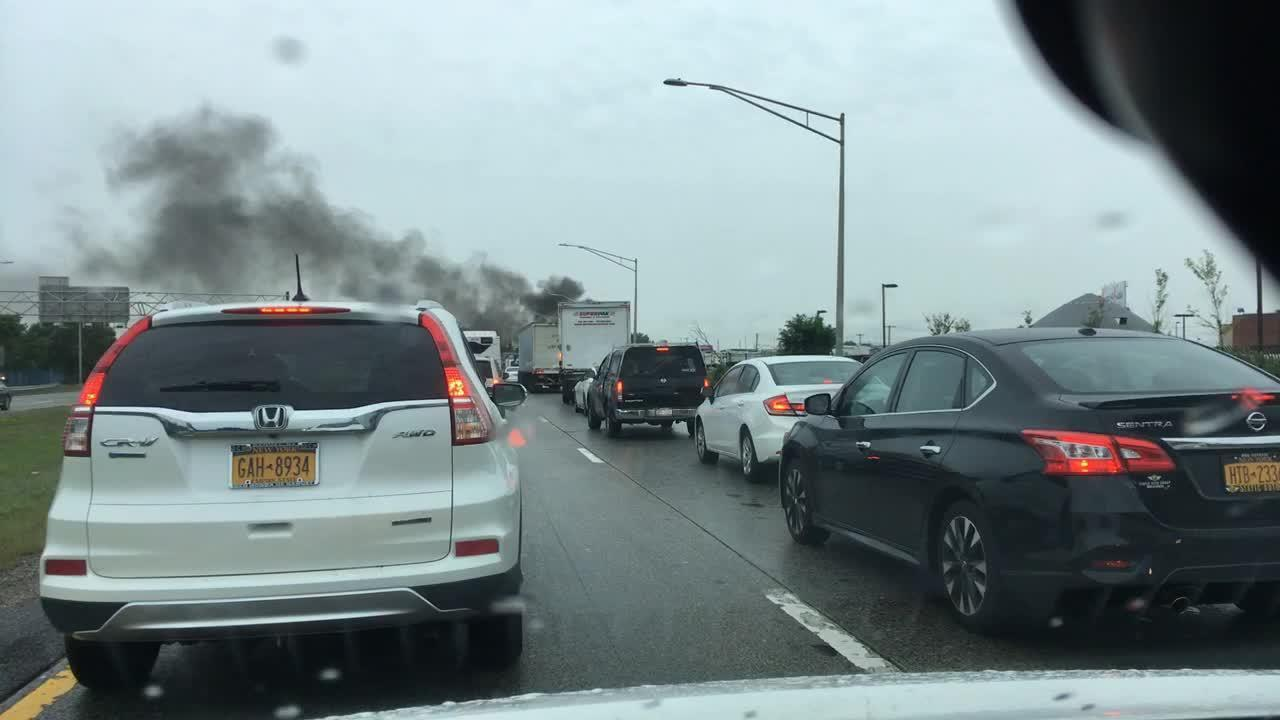Honda: (253, 402, 290, 433)
Nissan: (1240, 403, 1272, 437)
